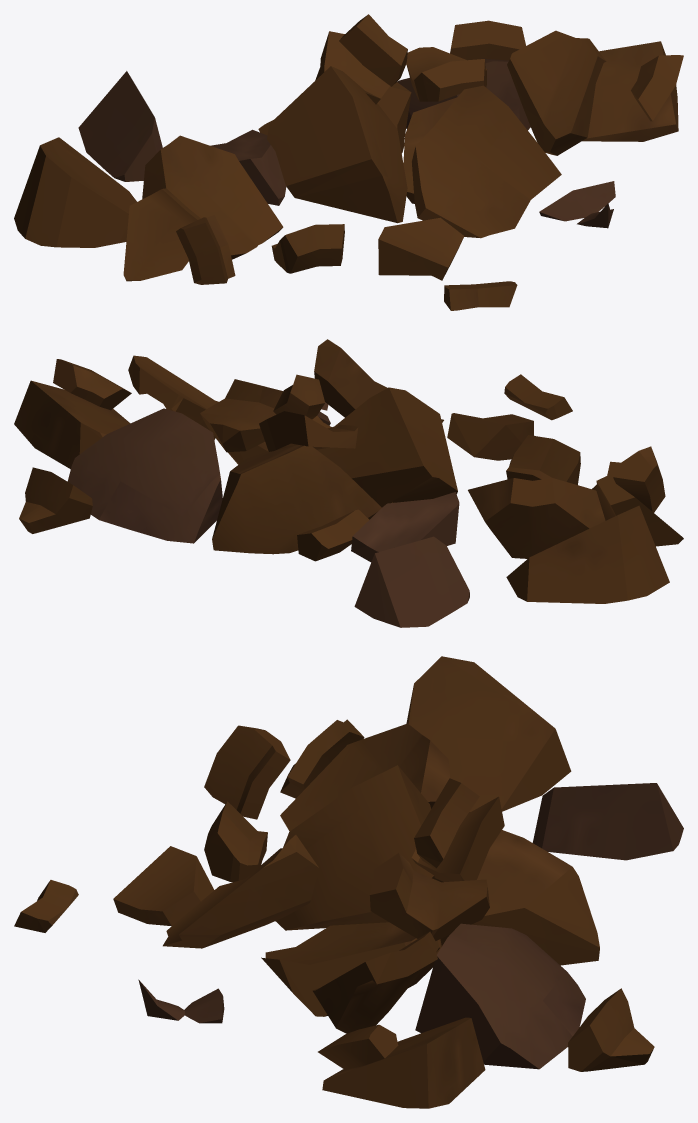
The model's file is Vase Rubble Medium.glb.
3 views of the same model, one above another, from view 1: azimuth 30°, elevation 25°; view 2: azimuth 150°, elevation 25°; view 3: azimuth 270°, elevation 25° (orthographic). The views are drawn at different scales.
Visible parts, largest first — view 1: Vase_Rubble_Medium; view 2: Vase_Rubble_Medium; view 3: Vase_Rubble_Medium.
Boxes of the visible parts, box(x1,y1,x2,y2) form: Vase_Rubble_Medium: box(14, 14, 683, 310); Vase_Rubble_Medium: box(14, 339, 683, 627); Vase_Rubble_Medium: box(14, 656, 683, 1108).
Size of the model in its own units: 0.7969 by 0.1746 by 0.5984.
1 material, 1 textured.
